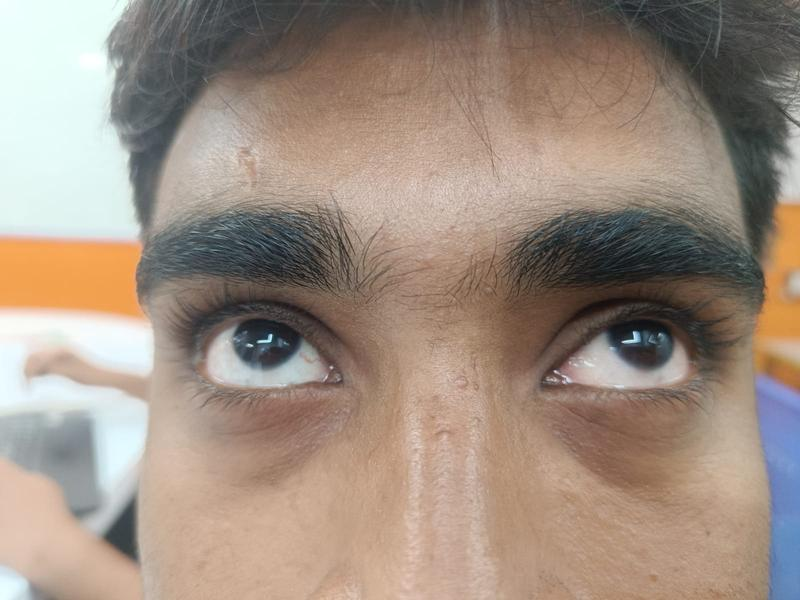EYE UP: (193, 318, 334, 395), (563, 323, 698, 390)
